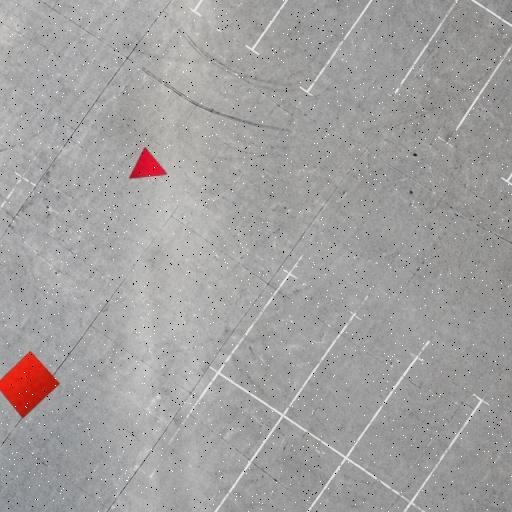RED_SQUARE: (0, 351, 60, 419)
